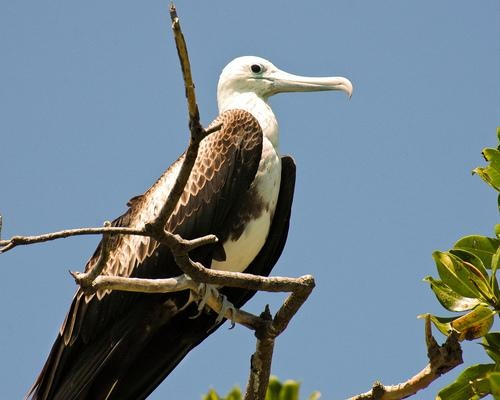bird: (28, 38, 353, 397)
